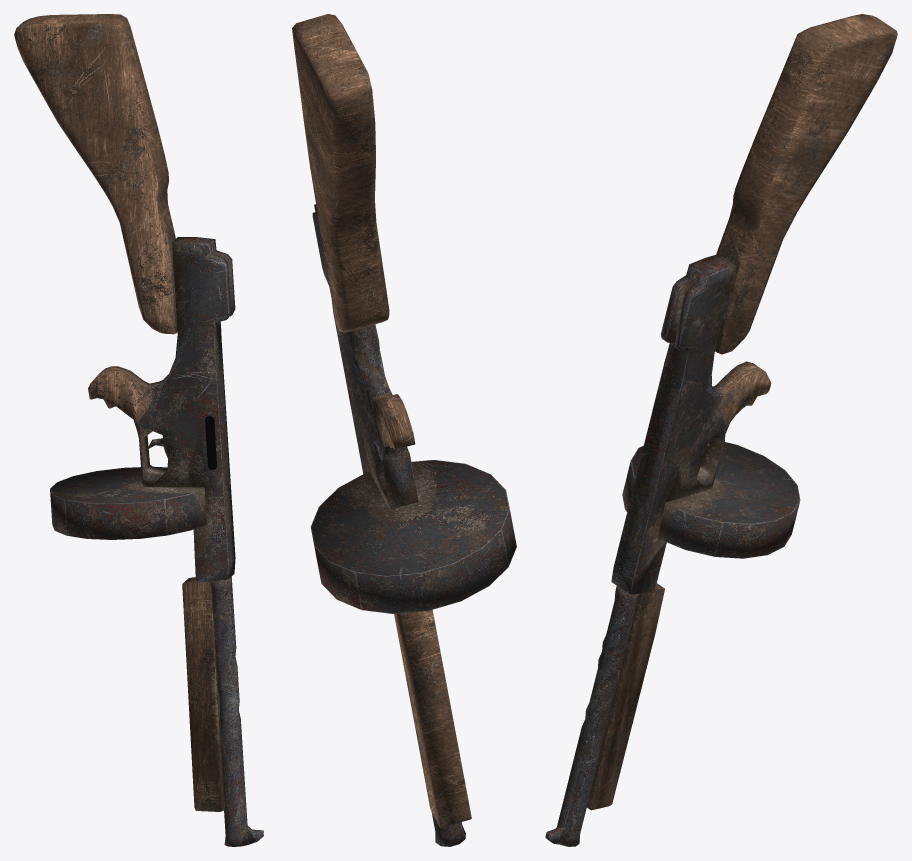
The model's file is Anim_idle_ametralladora_objetos.0030.obj.
3 views of the same model, side by side, from view 1: azimuth 30°, elevation 25°; view 2: azimuth 150°, elevation 25°; view 3: azimuth 270°, elevation 25° (orthographic). The views are drawn at different scales.
Visible parts, largest first — view 1: Ametralladora1; view 2: Ametralladora1; view 3: Ametralladora1.
Boxes of the visible parts, <box> form: Ametralladora1: <box>14,14,263,846</box>; Ametralladora1: <box>292,14,516,846</box>; Ametralladora1: <box>545,14,897,846</box>.
Bounding box in the file's own units: 1.32 × 5.84 × 2.32.
